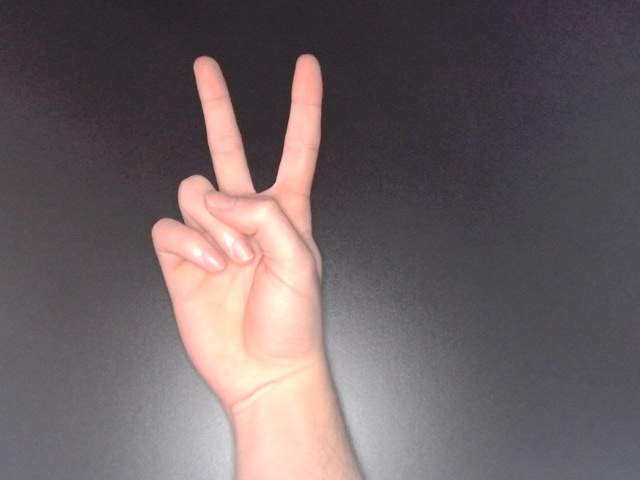v: (145, 49, 341, 428)
